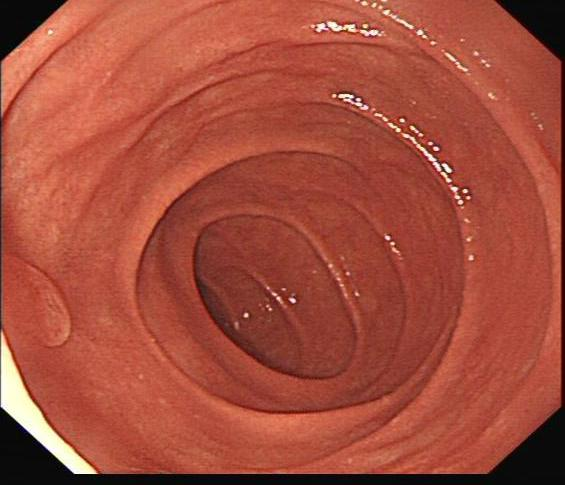Polyp: (3, 249, 74, 351)
